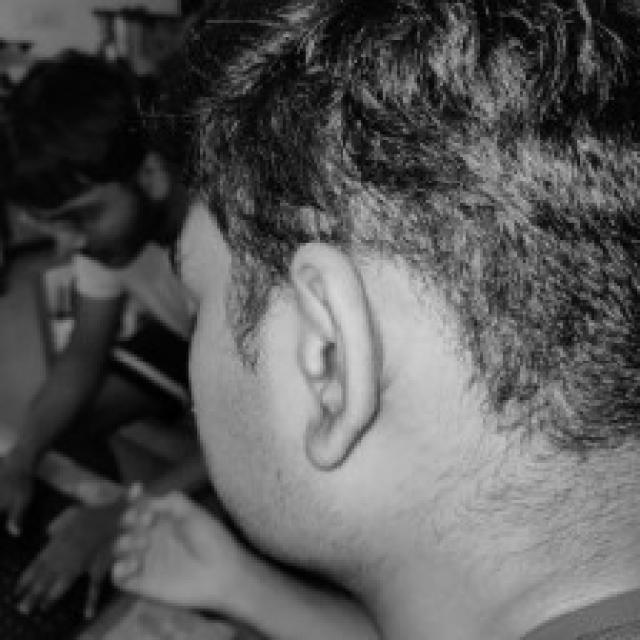ear: (286, 240, 377, 466), (137, 151, 171, 200)
